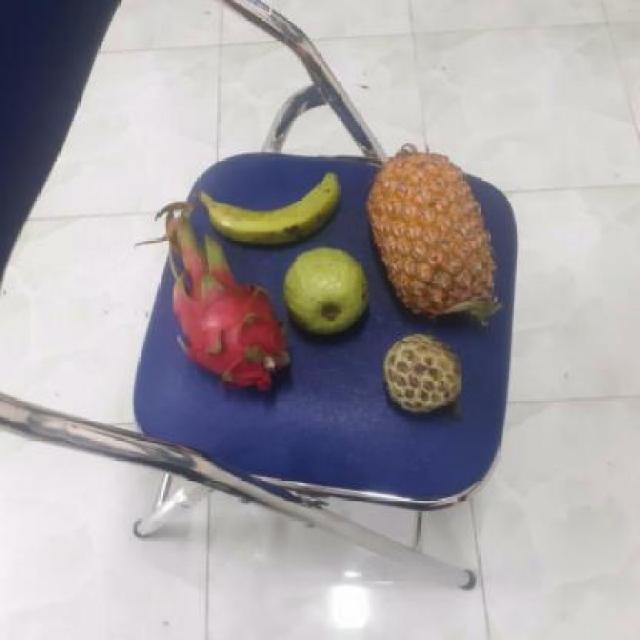dragon fruit: (174, 242, 295, 389)
guava: (280, 248, 374, 337)
pineapple: (368, 154, 503, 328)
sugar apple: (386, 335, 471, 413)
